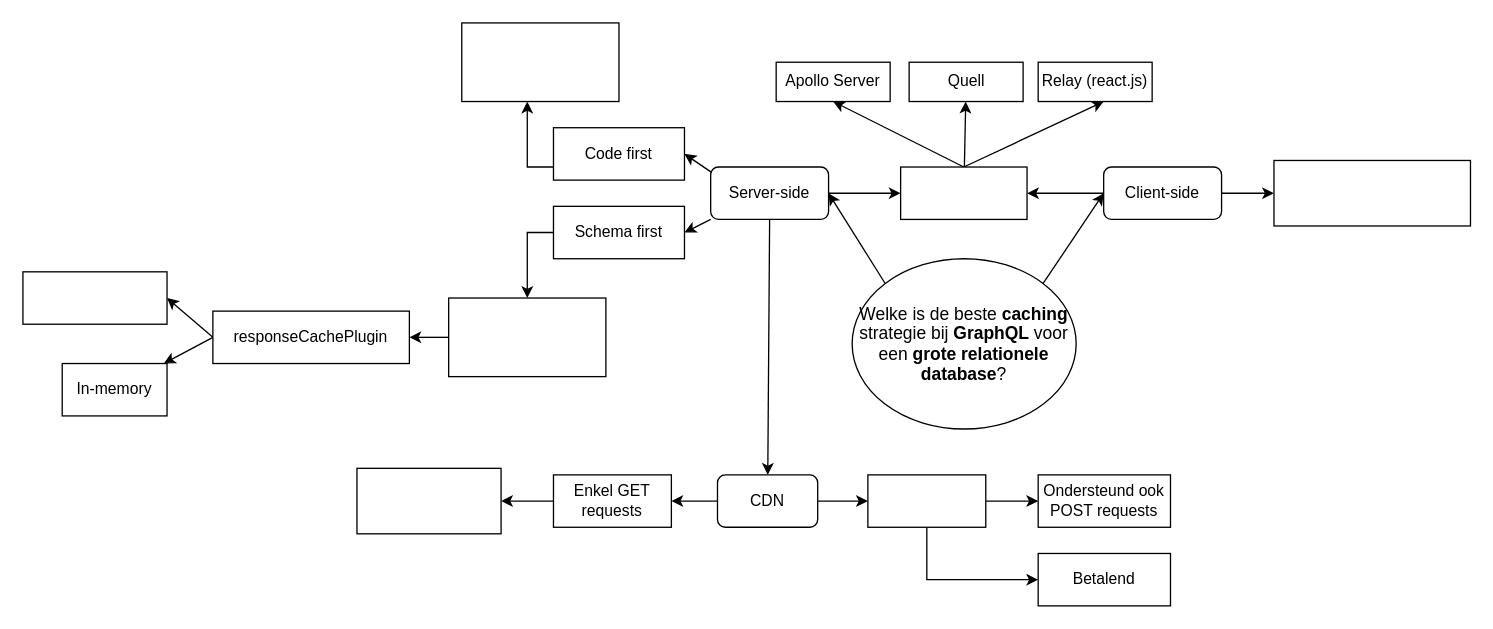
This 1493x629 diagram has some shape labels left out. The shapes that lost their labels are listed below. From the top down, each one's centre as x and y in pixels, then its label:
the point at 539,62: Te combineren met een ORM? (vb. TypeORM)
the point at 963,192: Frameworks/libs?
the point at 1371,192: Werken met unique id om client side caching op te zetten
the point at 94,297: Memcached/Redis
the point at 526,337: Efficiënt op te zetten met Apollo server?
the point at 428,500: Problemen bij te grote query strings
the point at 926,500: graphCDN.io
